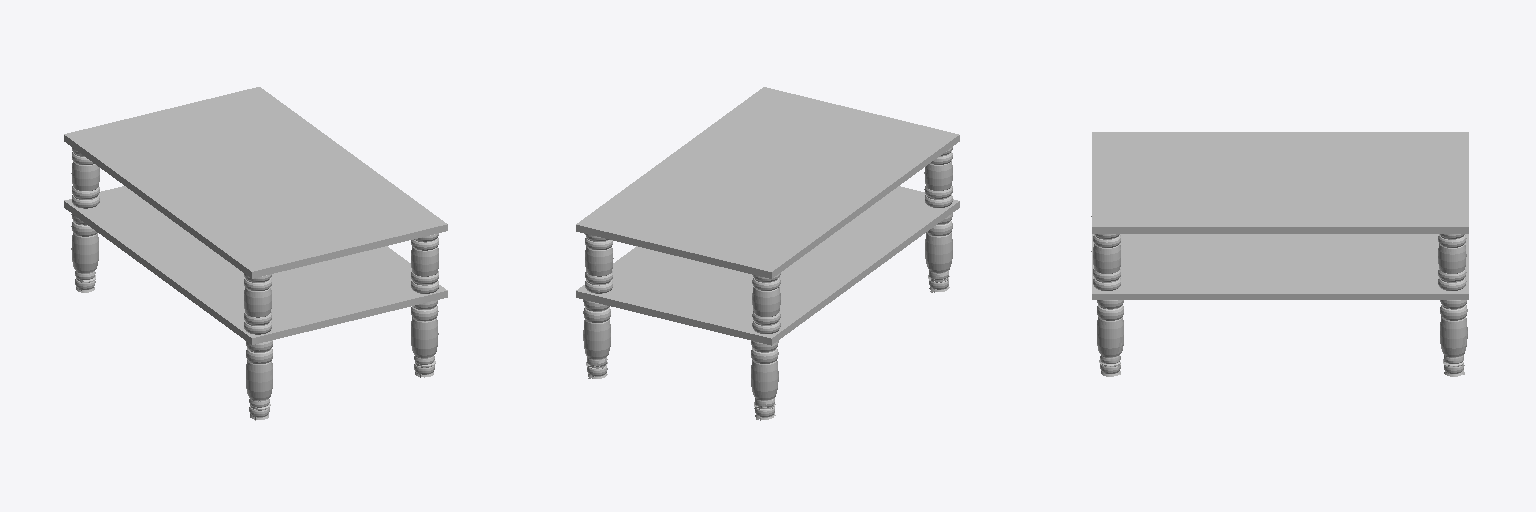
The model's file is coffee_table.obj.
3 renders of one model, left to right at view 1: azimuth 30°, elevation 25°; view 2: azimuth 150°, elevation 25°; view 3: azimuth 270°, elevation 25°, orthographic.
Visible parts, largest first — view 1: Cube.001_Cube, Cube, Torus.007_Torus.001, Torus.003_Torus.001, Torus.006_Torus.001, Torus.001_Torus, Torus.005_Torus, Torus.002_Torus; view 2: Cube.001_Cube, Cube, Torus.006_Torus.001, Torus.004_Torus.001, Torus.007_Torus.001, Torus.002_Torus, Torus.000_Torus, Torus.001_Torus; view 3: Cube.001_Cube, Cube, Torus.004_Torus.001, Torus.003_Torus.001, Torus.000_Torus, Torus.005_Torus.
Part boxes in pixels (x1,y1,x2,y2): Cube.001_Cube: (64,87,447,278); Cube: (64,186,447,344); Torus.007_Torus.001: (246,340,272,420); Torus.003_Torus.001: (411,300,438,377); Torus.006_Torus.001: (71,214,98,292); Torus.001_Torus: (244,273,271,334); Torus.005_Torus: (411,233,438,293); Torus.002_Torus: (71,148,99,208); Cube.001_Cube: (576,87,959,278); Cube: (576,186,959,345); Torus.006_Torus.001: (751,341,778,420); Torus.004_Torus.001: (583,300,610,378); Torus.007_Torus.001: (925,213,952,292); Torus.002_Torus: (752,273,780,333); Torus.000_Torus: (585,234,613,293); Torus.001_Torus: (924,147,952,207); Cube.001_Cube: (1092,132,1468,233); Cube: (1092,234,1468,299); Torus.004_Torus.001: (1440,300,1467,376); Torus.003_Torus.001: (1097,300,1123,376); Torus.000_Torus: (1438,234,1466,290); Torus.005_Torus: (1093,234,1120,290).
Size of the model in its own units: 2.96 by 2.21 by 4.94.